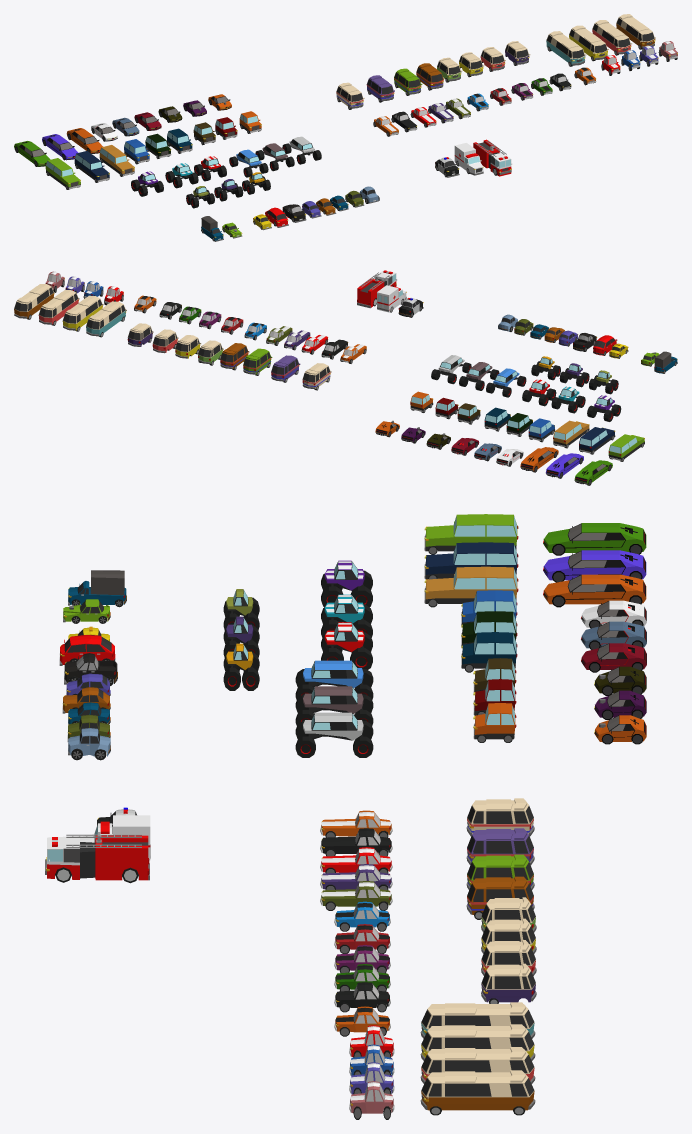
Rendered from car4.fbx.
The picture shows the model from 3 angles, top to bottom: view 1: azimuth 30°, elevation 25°; view 2: azimuth 150°, elevation 25°; view 3: azimuth 270°, elevation 25°; orthographic projection. The views are drawn at different scales.
Visible parts, largest first — view 1: Cube.122, Cube.089, Cube.160, Cube.156, Cube.153, Cube.140, Cube.138, Cube.139, Cube, Cube.112, Cube.227, Cube.133 (+24 smaller); view 2: Cube.122, Cube.160, Cube.156, Cube.153, Cube.089, Cube.140, Cube.138, Cube.139, Cube.112, Cube.227, Cube.226, Cube (+26 smaller); view 3: Cube.160, Cube.089, Cube.137, Cube.156, Cube.146, Cube.138, Cube.153, Cube.140, Cube.122, Cube.133, Cube.227, Cube.139 (+45 smaller).
Part boxes in pixels (x1,y1,x2,y2): Cube.122: [546, 31, 586, 66]; Cube.089: [473, 139, 511, 176]; Cube.160: [616, 14, 655, 49]; Cube.156: [592, 20, 632, 55]; Cube.153: [569, 25, 608, 61]; Cube.140: [99, 145, 134, 176]; Cube.138: [45, 158, 80, 189]; Cube.139: [74, 151, 109, 182]; Cube: [454, 143, 483, 175]; Cube.112: [229, 149, 268, 177]; Cube.227: [282, 136, 321, 164]; Cube.133: [42, 134, 78, 160]; Cube.122: [86, 301, 126, 337]; Cube.160: [14, 284, 54, 319]; Cube.156: [38, 290, 79, 325]; Cube.153: [62, 295, 103, 331]; Cube.089: [357, 270, 396, 308]; Cube.140: [553, 420, 589, 448]; Cube.138: [608, 434, 644, 461]; Cube.139: [579, 427, 615, 454]; Cube.112: [486, 368, 526, 397]; Cube.227: [431, 355, 471, 384]; Cube.226: [459, 362, 499, 390]; Cube: [377, 285, 406, 312]; Cube.160: [420, 1070, 535, 1115]; Cube.089: [45, 832, 149, 883]; Cube.137: [543, 574, 646, 607]; Cube.156: [420, 1047, 535, 1083]; Cube.146: [543, 523, 646, 555]; Cube.138: [424, 514, 518, 554]; Cube.153: [420, 1024, 535, 1060]; Cube.140: [424, 566, 518, 607]; Cube.122: [420, 1002, 535, 1038]; Cube.133: [543, 550, 646, 582]; Cube.227: [295, 712, 373, 757]; Cube.139: [424, 542, 518, 579].
Size of the model in its own units: 13509 by 464 by 5933.
2 materials, 2 textured.
